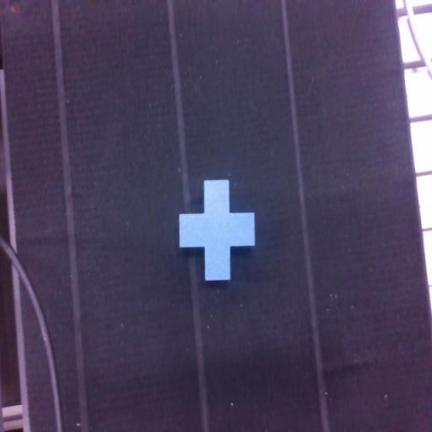cross: (179, 180, 254, 280)
